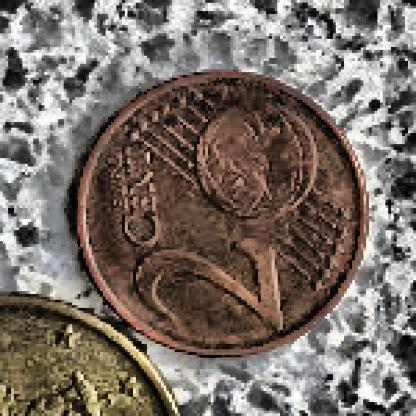coin: (65, 63, 368, 376)
